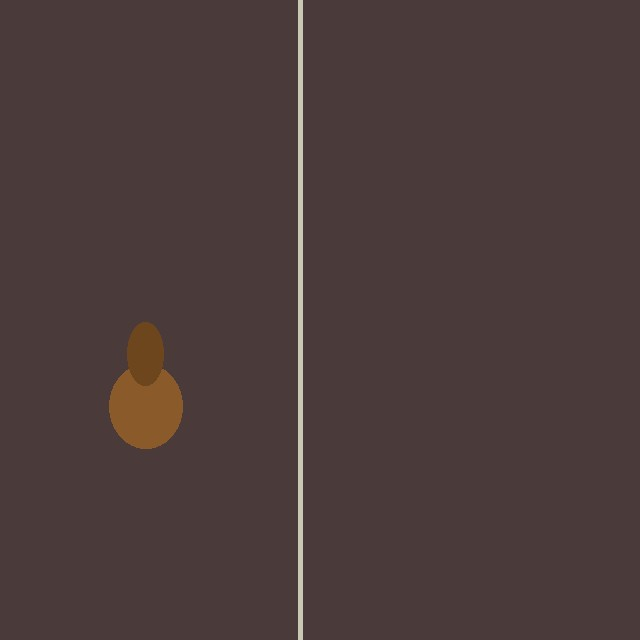animal: (109, 322, 182, 448)
